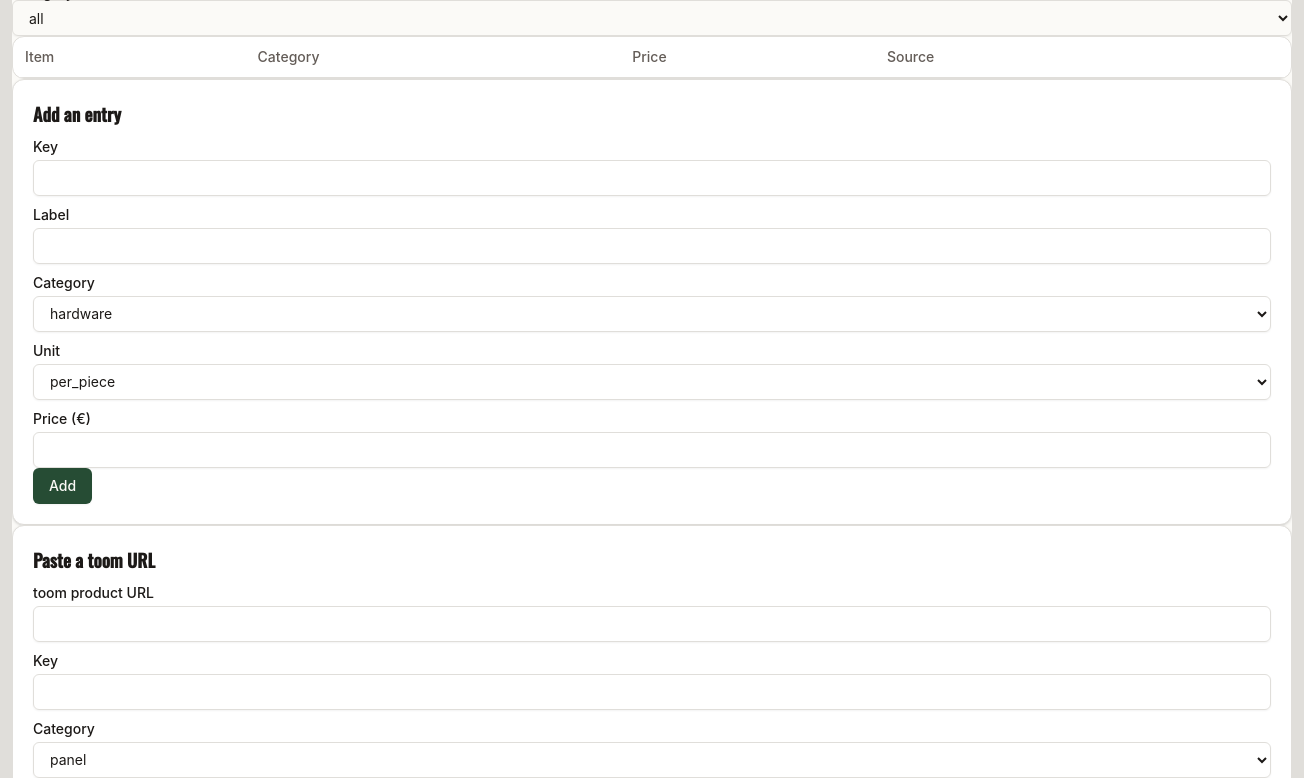
Test: a pasted URL that is refused shows the reason
Step 1. Type "https://www.bauhaus.info/x" into the field labelled "toom product URL" → point(652, 624), box left=33, top=606, right=1271, bottom=642
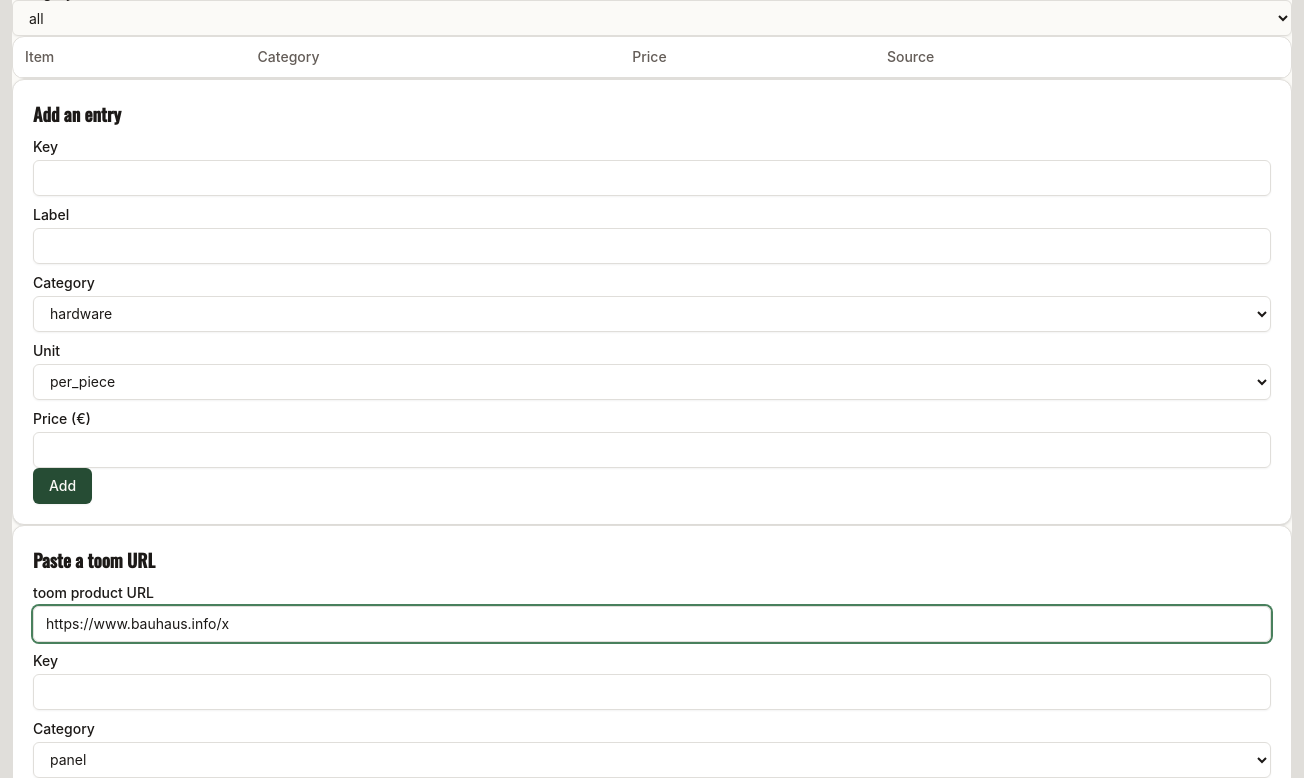
Step 2. Type "foam" into the field labelled "Key" below "toom product URL" → point(652, 692), box left=33, top=674, right=1271, bottom=710
(page scrolled)
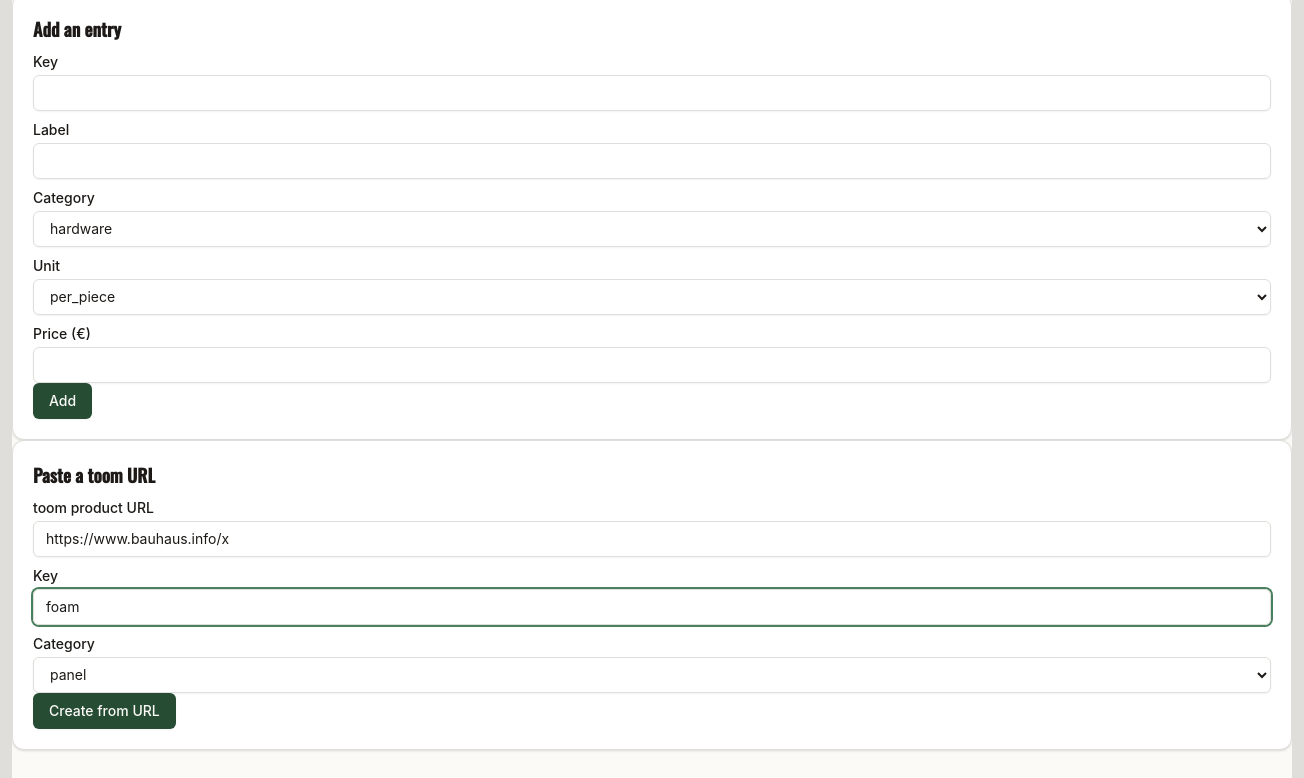
Step 3. Click the button "Create from URL" → point(104, 710), box left=33, top=692, right=176, bottom=728
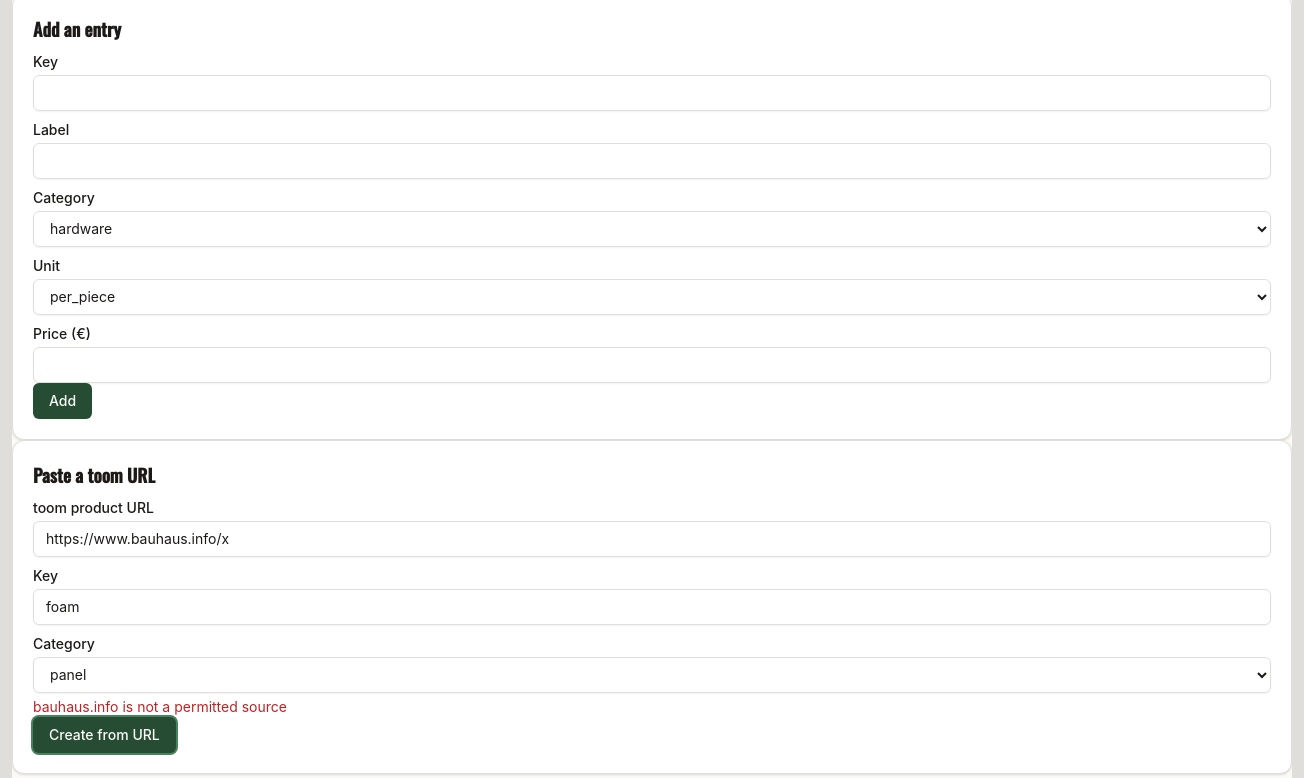
expect the text "bauhaus.info is not a permitted source" is shown: met, box left=33, top=698, right=287, bottom=714
